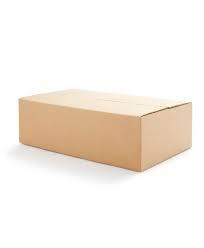box: (20, 87, 193, 172)
